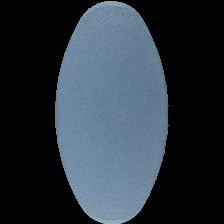50268-592: (0, 0, 224, 224)
